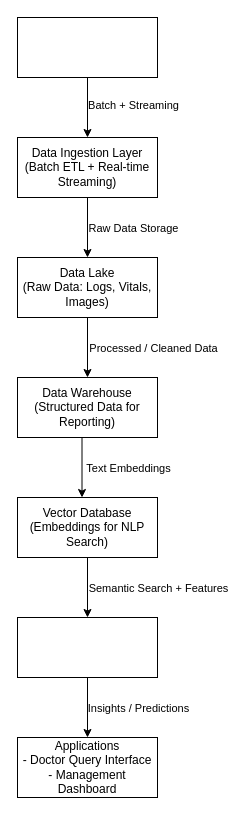
The diagram is 245 pixels wide and 815 high, and some of its shapes have lost their labels. The shapes that lost their labels are listed below. From the top down, each one's box as (x1, y1, x2, y2) in pixels, then its label:
(16, 16, 158, 78): Patient Records (EHR) ICU Devices (Vitals) Billing Systems
(16, 616, 158, 678): AI / ML Layer - Readmission Prediction Model - NLP Query System
